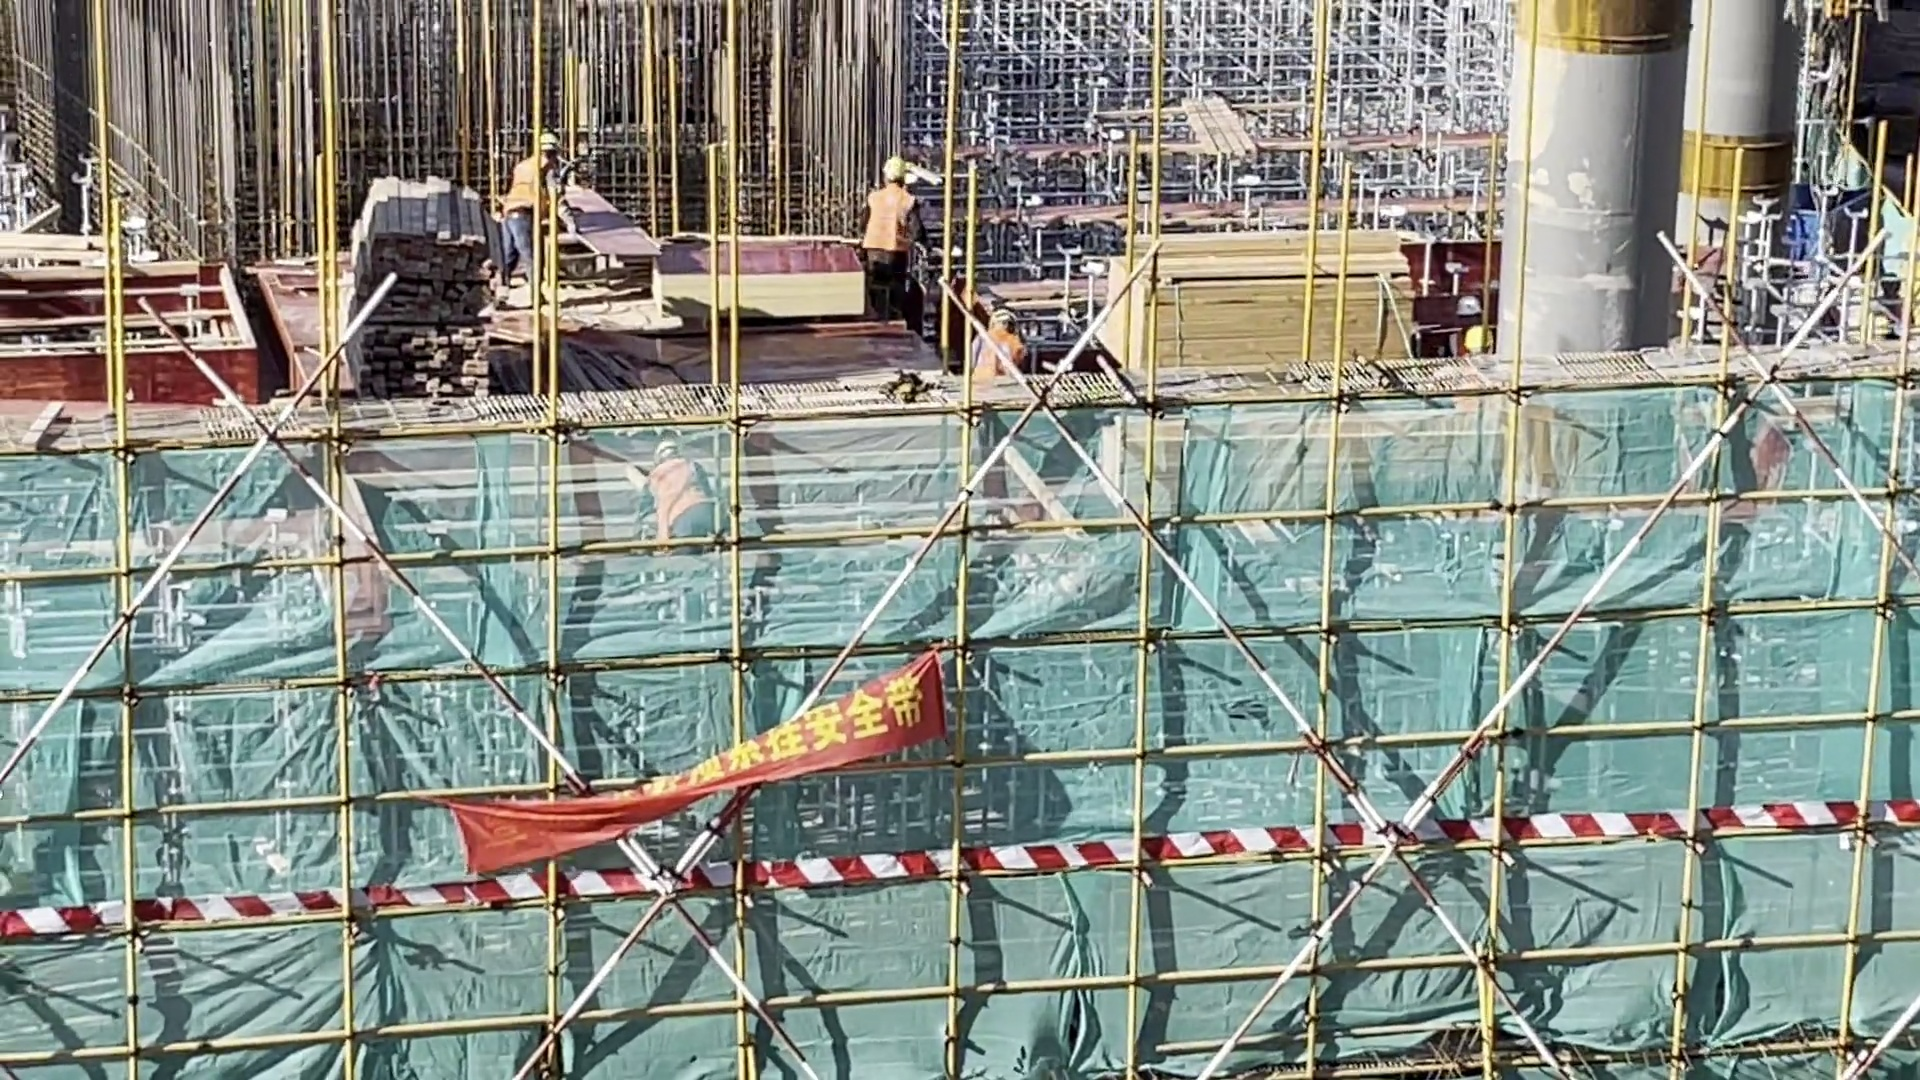board: (661, 249, 863, 325)
helmet: (1461, 327, 1492, 351), (989, 309, 1020, 327), (1459, 298, 1485, 319), (879, 160, 904, 181), (649, 441, 681, 454), (537, 132, 560, 148)
person: (628, 437, 733, 578), (959, 305, 1033, 468), (850, 160, 917, 321), (500, 133, 555, 298), (1443, 299, 1494, 367)
slogan: (452, 696, 909, 890)
vest: (644, 458, 704, 518), (864, 190, 913, 252), (971, 331, 1021, 390), (508, 159, 550, 216)
wood: (1096, 423, 1628, 506), (1108, 236, 1411, 360), (340, 179, 493, 312), (365, 327, 510, 402)
